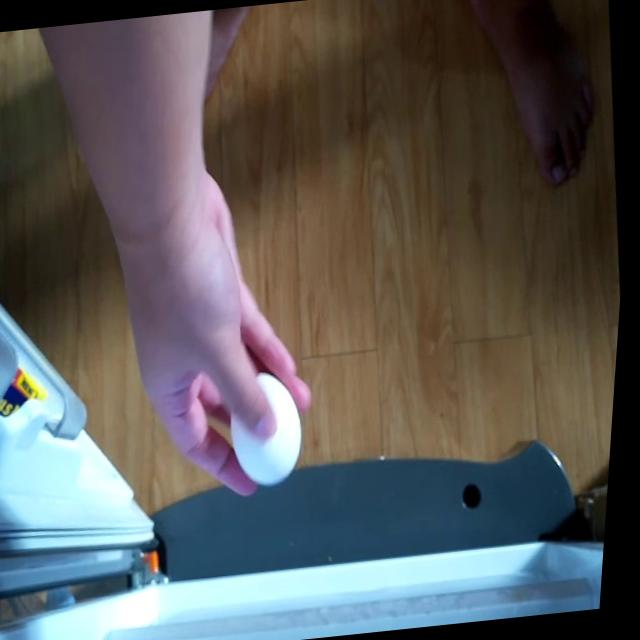egg: (233, 370, 317, 490)
